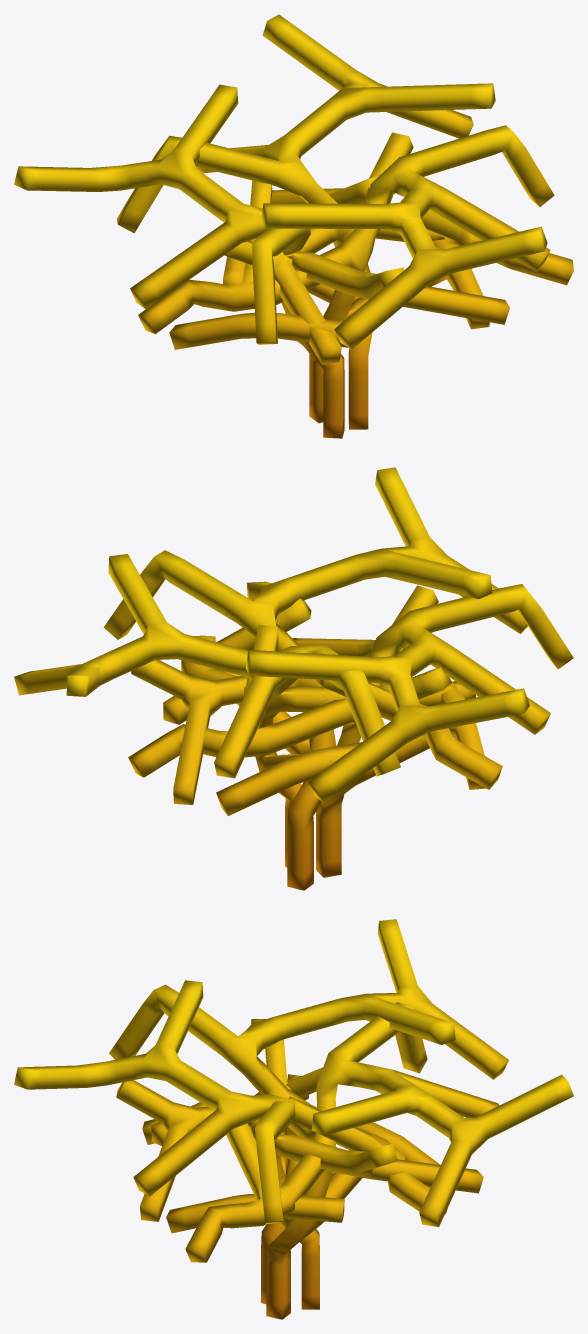
The model's file is koraal1-sakura.fbx.
3 renders of one model, top to bottom at view 1: azimuth 30°, elevation 25°; view 2: azimuth 150°, elevation 25°; view 3: azimuth 270°, elevation 25°, orthographic. The views are drawn at different scales.
Parts seen in each view (by area): view 1: Staghorn_Low__1_; view 2: Staghorn_Low__1_; view 3: Staghorn_Low__1_.
Boxes of the visible parts, box(x1,y1,x2,y2) form: Staghorn_Low__1_: box(14, 14, 573, 438); Staghorn_Low__1_: box(14, 467, 573, 890); Staghorn_Low__1_: box(14, 919, 573, 1319).
Size of the model in its own units: 49.98 by 28.4 by 53.39.
